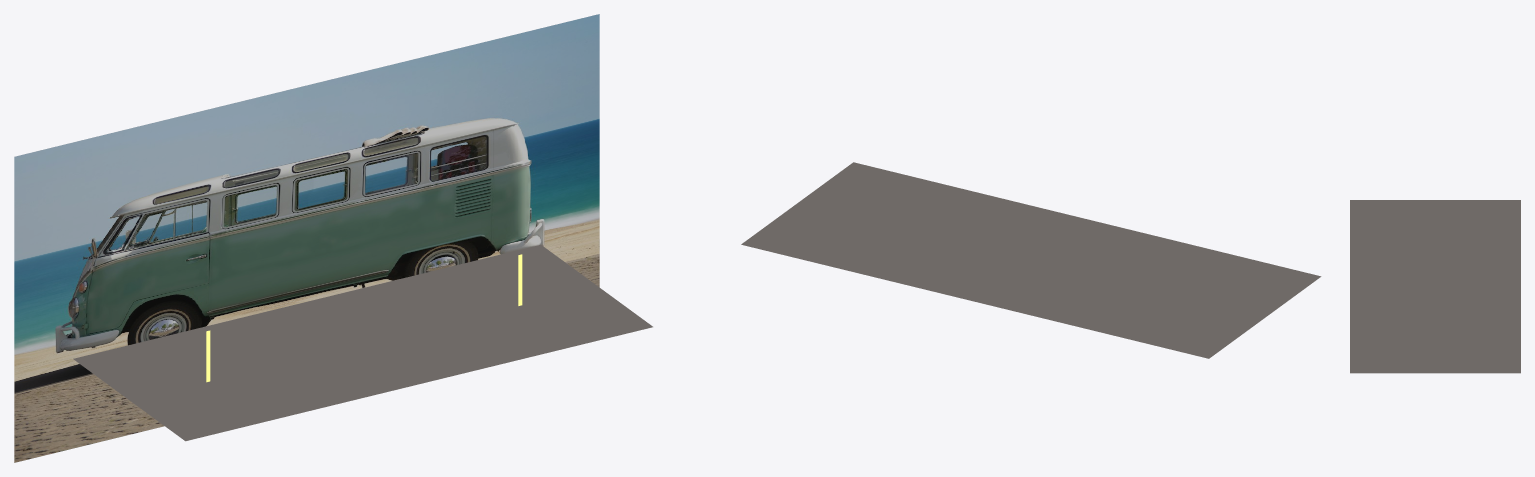
File: stage_kumbh_sangam_gathering.glb
3 renders of one model, left to right at view 1: azimuth 30°, elevation 25°; view 2: azimuth 150°, elevation 25°; view 3: azimuth 270°, elevation 25°, orthographic. The views are drawn at different scales.
Visible parts, largest first — view 1: FOF_StageBackdrop, FOF_FightingFloor; view 2: FOF_FightingFloor; view 3: FOF_FightingFloor.
Part boxes in pixels (bbox=[...]): FOF_StageBackdrop: bbox=[14, 14, 599, 462]; FOF_FightingFloor: bbox=[73, 244, 652, 441]; FOF_FightingFloor: bbox=[741, 162, 1321, 358]; FOF_FightingFloor: bbox=[1350, 200, 1520, 373].
Size of the model in its own units: 60 by 30 by 20.
Materials: 3 (1 with a texture image).
